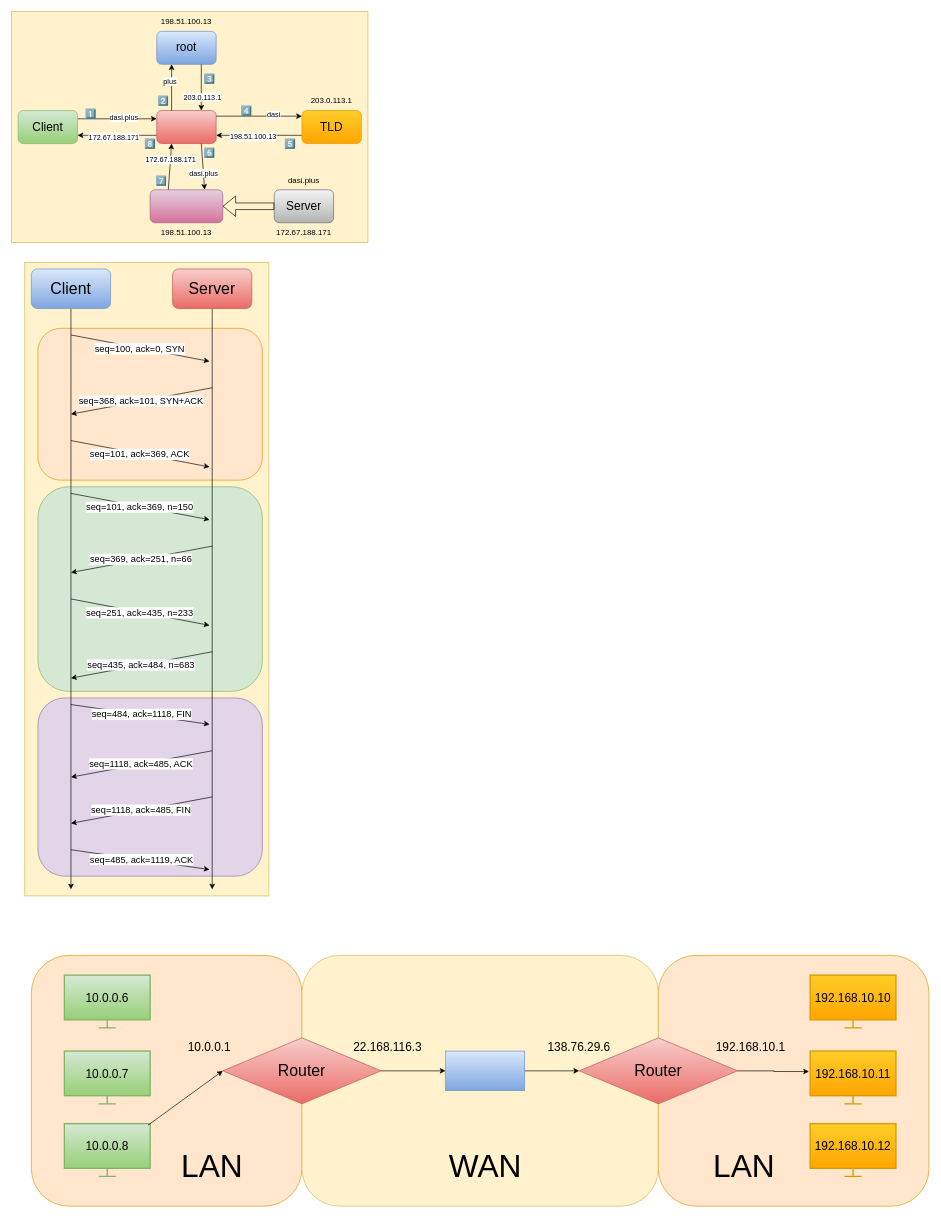
This 941x1218 diagram has some shape labels left out. Here are the shapes that lost their labels. From the top down, the box of each, then its label:
(156, 110, 216, 144): local
(149, 189, 223, 223): authoritative
(37, 328, 262, 480): 三次握手
(37, 486, 262, 691): 数据传输
(37, 697, 262, 876): 四次挥手
(445, 1050, 525, 1091): Internet
